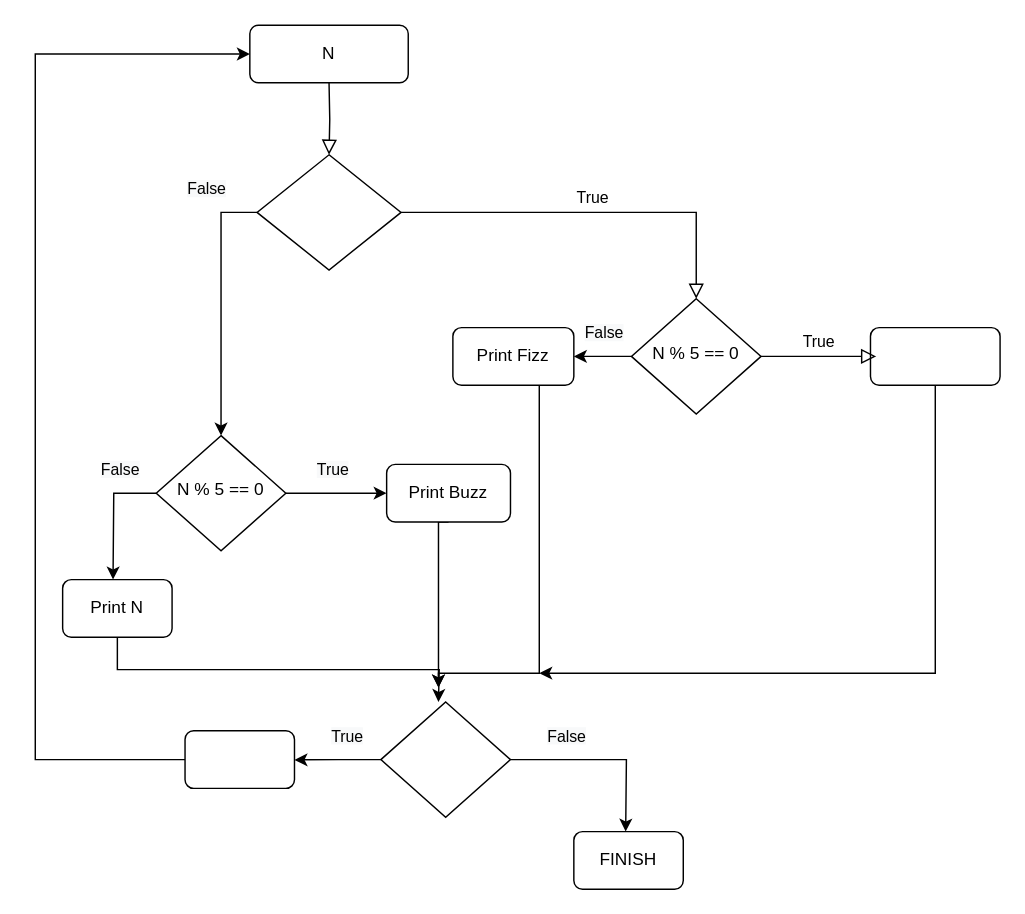
This 1025x914 diagram has some shape labels left out. Each missing label, with the box of its shape:
N % 3 == 0: (256, 153, 401, 270)
N + 1: (184, 729, 294, 788)
N <= 100?: (379, 701, 510, 817)
Print FizzBuzz: (869, 326, 1000, 385)
